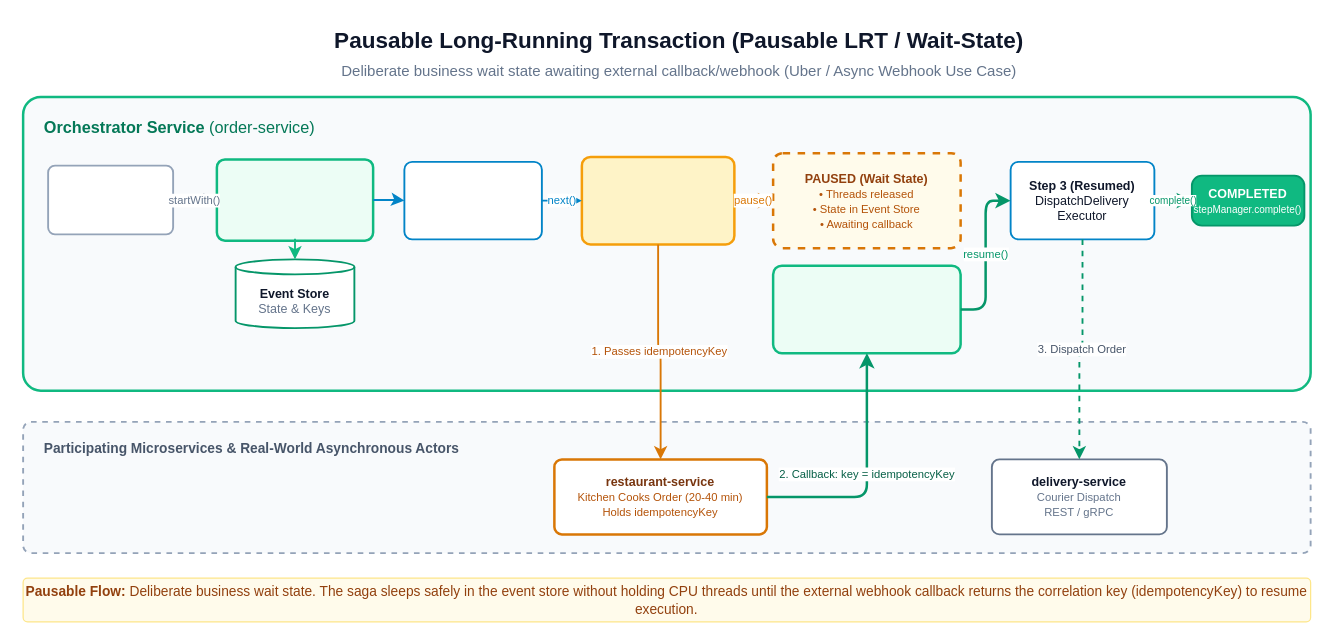
This 1333x644 diagram has some shape labels left out. The centre of each missing label's shape, as x and y in pixels:
"Callback Controller POST /callbacks/order-ready sagaTemplate.resume(tx, key)" goes at [866,309].
"Client Request POST /orders" goes at [110,199].
"SagaTemplate & SEC Execution Coordinator" goes at [294,199].
"Step 1 InitializeOrder Executor" goes at [472,200].
"Step 2 (Pausable) NotifyRestaurant stepManager.pause()" goes at [657,200].
